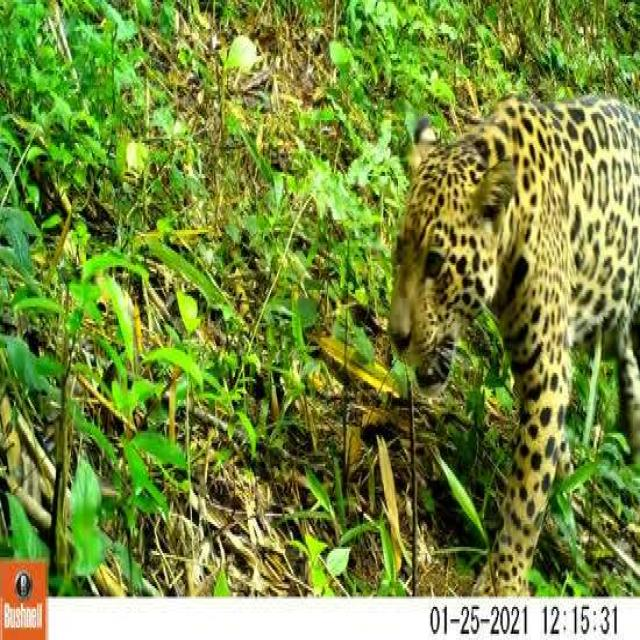Jaguar: (385, 93, 640, 592)
